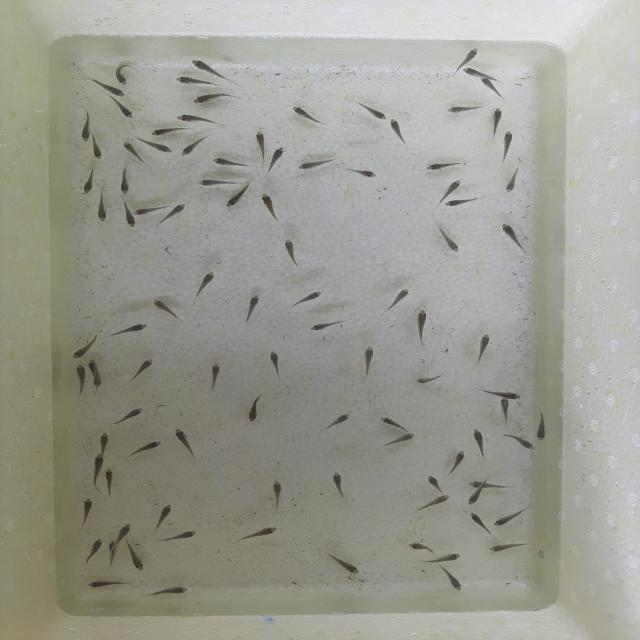fingerling: (274, 234, 310, 277), (315, 547, 365, 576), (496, 219, 532, 258), (229, 522, 281, 547), (190, 265, 218, 308), (427, 226, 466, 255), (470, 327, 499, 365), (122, 436, 166, 461), (241, 389, 270, 426), (304, 314, 355, 335), (288, 286, 329, 312), (238, 290, 266, 328), (172, 424, 198, 464), (107, 404, 148, 429), (124, 355, 158, 385), (70, 329, 102, 360), (106, 320, 152, 341), (154, 527, 202, 547), (188, 88, 241, 106), (290, 102, 327, 127), (74, 493, 99, 530), (412, 303, 432, 349), (384, 283, 412, 315), (148, 500, 180, 528), (500, 163, 527, 196), (326, 466, 350, 503), (265, 474, 287, 514), (385, 116, 410, 151), (262, 344, 283, 385), (468, 426, 491, 462), (359, 341, 379, 382), (378, 430, 419, 450), (121, 542, 148, 572), (146, 582, 191, 600), (106, 60, 137, 86), (314, 412, 354, 432), (296, 155, 338, 174), (259, 190, 281, 225), (532, 407, 554, 442), (354, 98, 386, 122), (410, 494, 450, 513), (345, 162, 381, 183), (205, 358, 226, 394), (486, 538, 528, 556), (267, 143, 289, 177), (81, 536, 105, 567), (444, 446, 468, 476), (439, 566, 466, 592), (499, 432, 534, 452), (151, 297, 182, 319), (493, 507, 527, 527), (82, 578, 130, 592), (422, 159, 466, 174), (174, 112, 221, 126), (223, 186, 249, 211), (444, 100, 482, 117), (411, 370, 451, 386), (89, 453, 105, 493), (92, 192, 111, 224), (479, 385, 522, 399), (210, 155, 250, 170), (378, 413, 410, 431), (148, 125, 189, 139), (194, 177, 235, 191), (185, 57, 218, 74), (498, 129, 515, 162), (168, 73, 208, 87), (110, 100, 136, 121), (144, 140, 176, 157), (252, 126, 268, 160), (78, 104, 92, 142), (403, 537, 435, 553), (116, 165, 133, 195), (488, 106, 503, 140), (79, 167, 96, 196), (180, 137, 203, 158), (458, 46, 482, 66), (113, 520, 135, 541), (462, 487, 484, 508), (439, 178, 462, 198), (73, 362, 87, 394), (465, 510, 487, 530), (497, 397, 511, 428), (94, 430, 112, 454), (436, 548, 462, 564), (444, 198, 479, 209), (104, 464, 115, 498), (120, 140, 141, 157), (102, 84, 127, 97), (426, 472, 442, 492), (91, 143, 105, 161), (461, 66, 479, 80), (169, 203, 188, 216), (92, 372, 105, 389), (131, 208, 152, 217), (123, 215, 136, 229), (479, 77, 494, 87), (468, 476, 480, 488)
